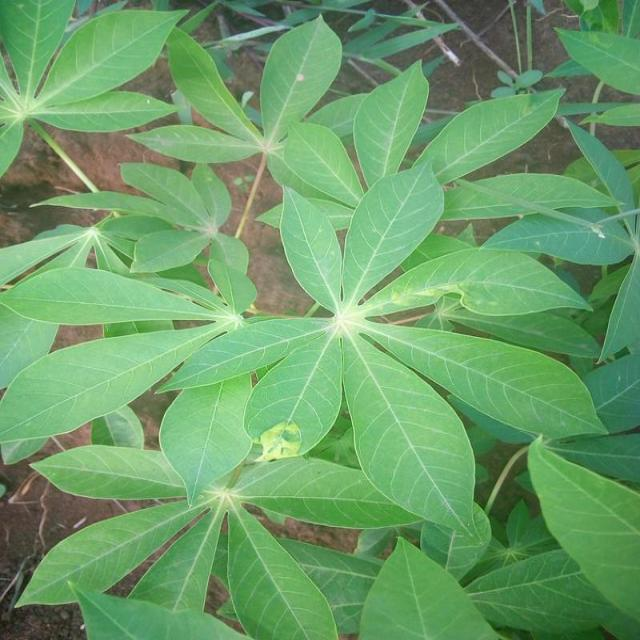cassava leaf: (1, 7, 636, 637)
